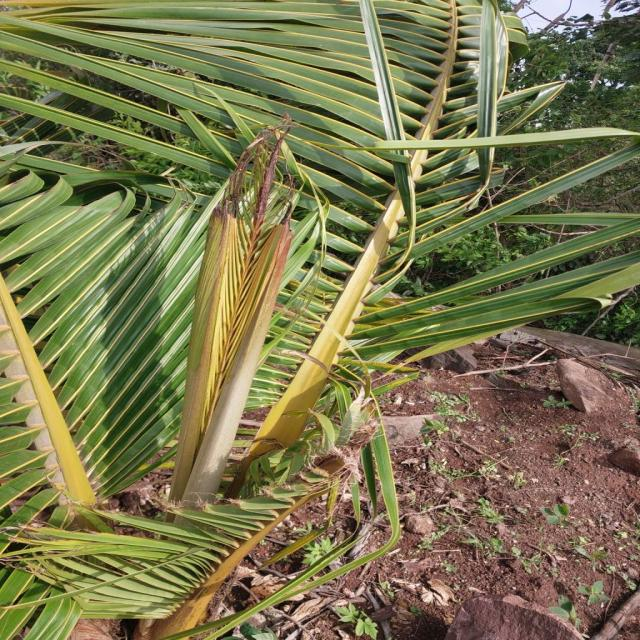bud rot: (172, 121, 295, 505)
